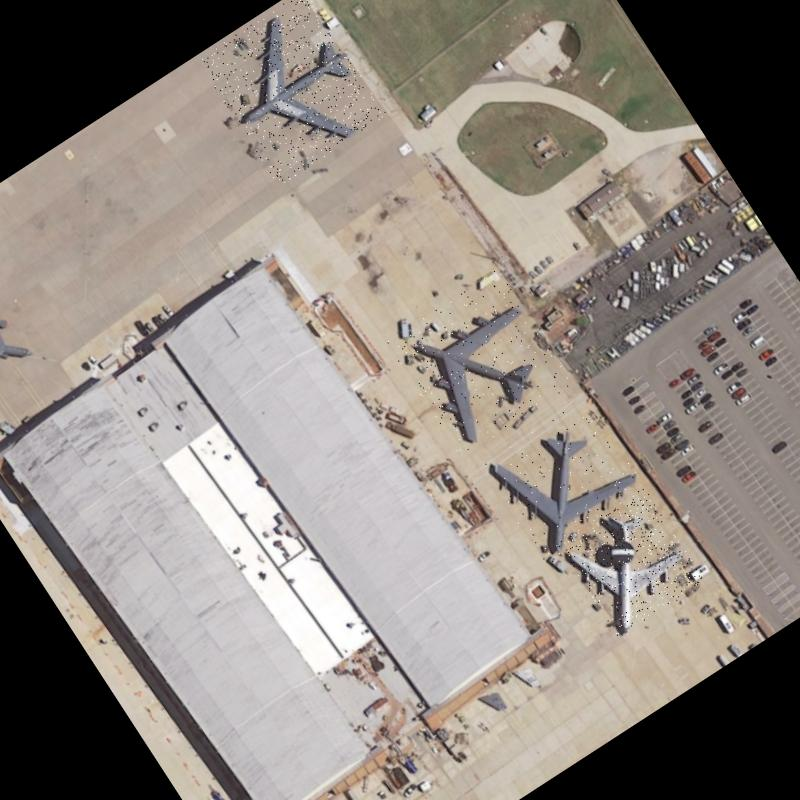A7: (556, 486, 706, 638)
A8: (386, 268, 574, 458), (197, 0, 389, 186), (480, 394, 658, 570), (0, 253, 45, 426)
